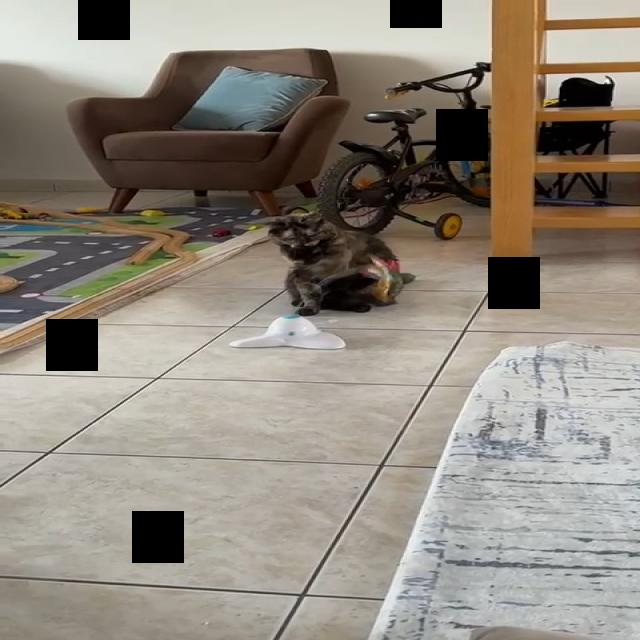authorized: (264, 210, 415, 316)
